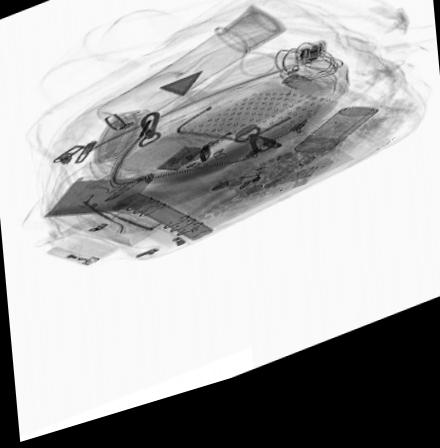Lighter: (43, 249, 100, 272)
